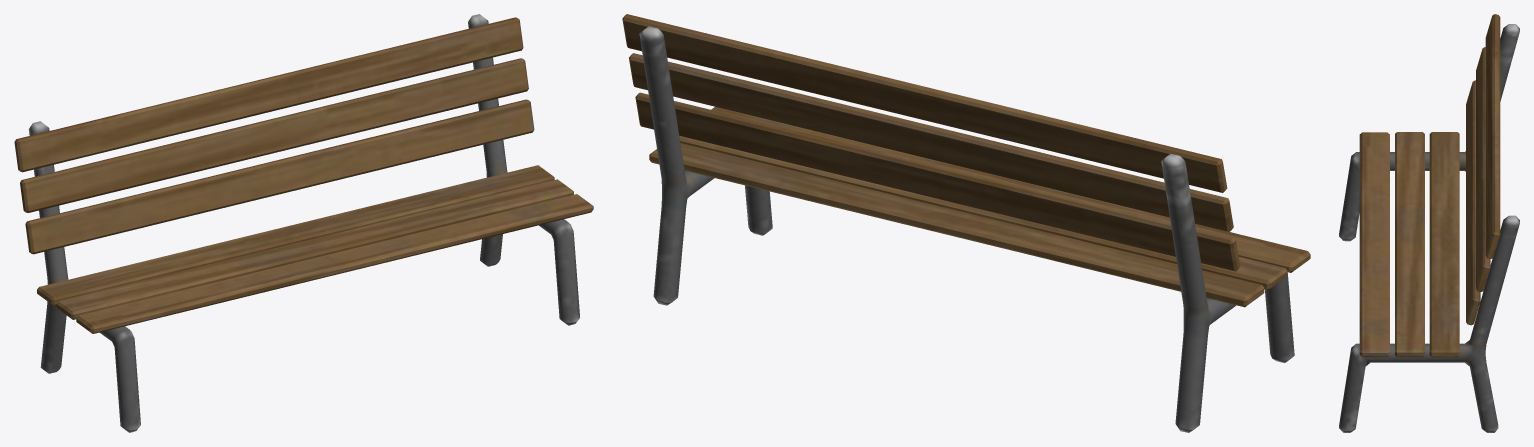
The model's file is bench.glb.
3 views of the same model, side by side, from view 1: azimuth 30°, elevation 25°; view 2: azimuth 150°, elevation 25°; view 3: azimuth 270°, elevation 25° (orthographic). The views are drawn at different scales.
Visible parts, largest first — view 1: Bemch; view 2: Bemch; view 3: Bemch.
Boxes of the visible parts, x1=… form: Bemch: x1=14, y1=14, x2=593, y2=432; Bemch: x1=622, y1=14, x2=1310, y2=432; Bemch: x1=1339, y1=14, x2=1519, y2=432.
Size of the model in its own units: 1.92 by 0.8719 by 0.6673.
1 material, 1 textured.
